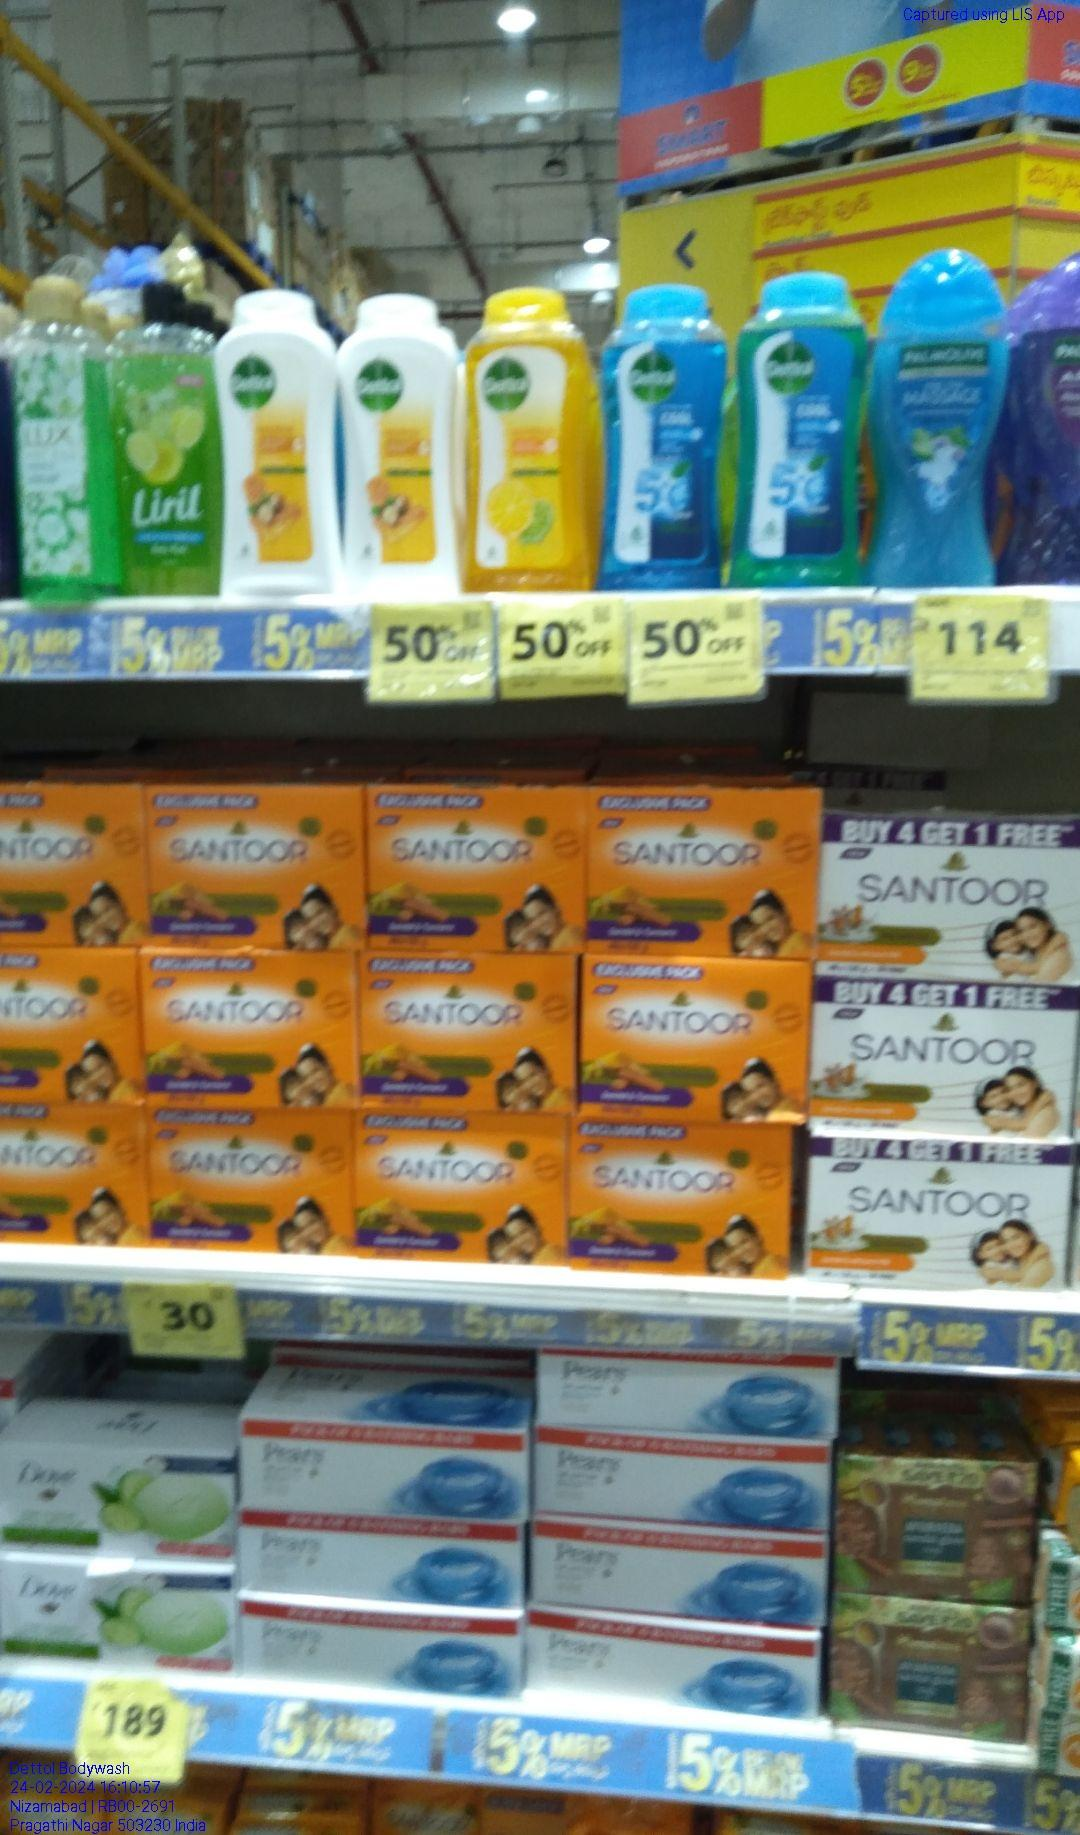Dettol_Bodywash_Cool: (597, 289, 726, 589), (738, 274, 855, 592)
Dettol_Bodywash_Refresh: (464, 290, 589, 592)
Dettol_Nourish_Body_Wash_250ML: (222, 289, 338, 596), (343, 293, 454, 595)
Liril_Lime_and_Tea_Tree_Oil_Body_Wash_250ML: (125, 281, 215, 595)
Lux_Body_Wash_Skin_Detox_Freesia_Scent_and_Alove_Vera_245ML: (13, 276, 120, 599)
Palmolive_Aroma_Moments_Feel_The_Massage_Shower_Gel_250ML: (870, 256, 998, 583)
